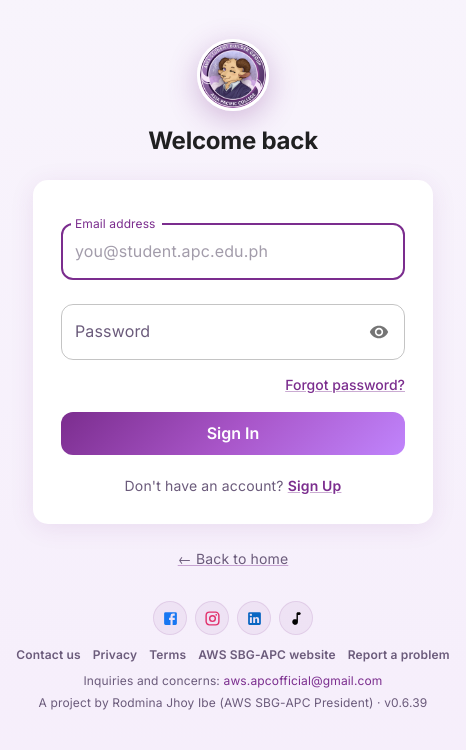
Scenario: LoginPage › shows validation errors when fields are empty
Click the button "Sign In".
click(233, 434)  # box [61,412,405,455]
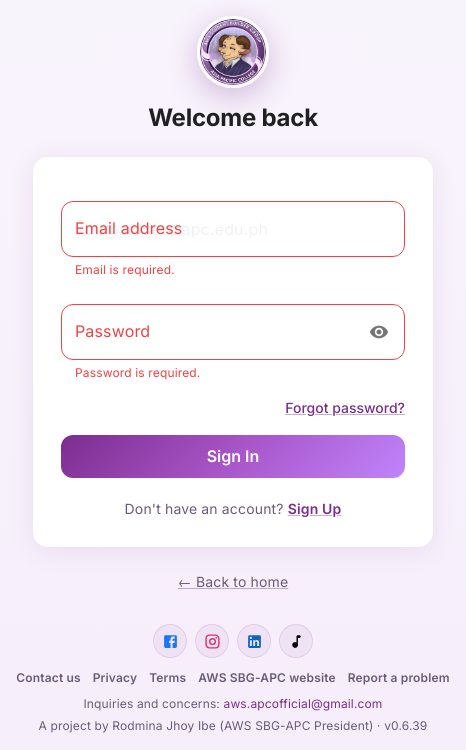
Result: the text "Email is required." is shown at [75,262,175,277]
Result: the text "Password is required." is shown at [75,365,200,380]
